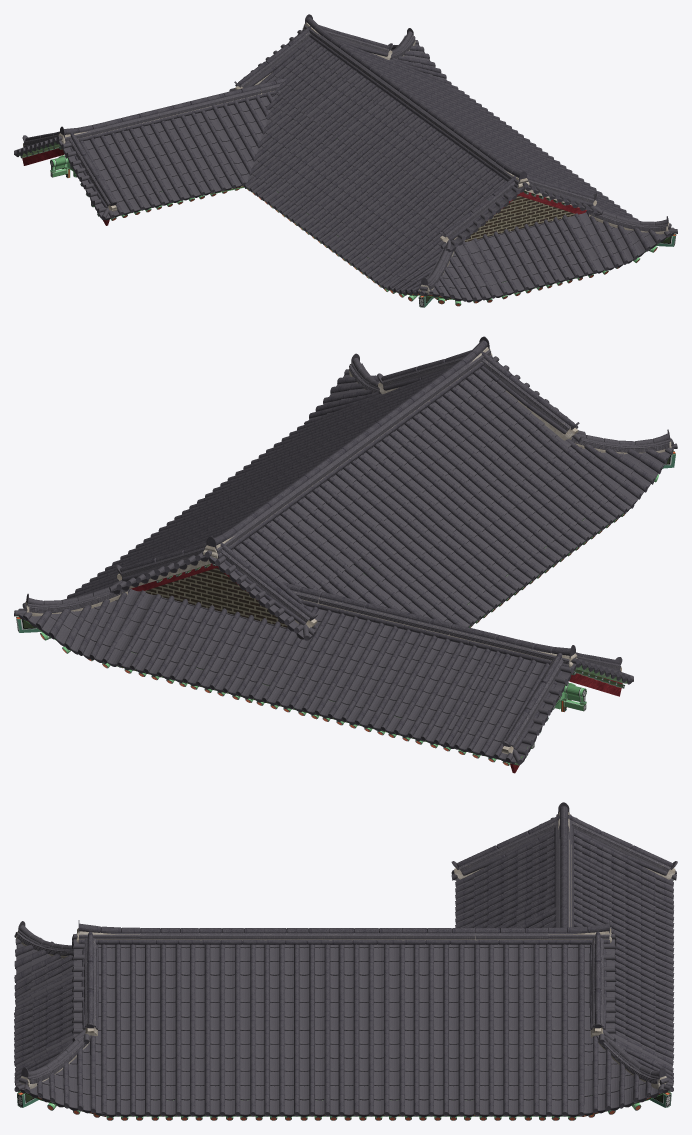
Rendered from SM_R_Bokgunyeong.fbx.
The picture shows the model from 3 angles, top to bottom: view 1: azimuth 30°, elevation 25°; view 2: azimuth 150°, elevation 25°; view 3: azimuth 270°, elevation 25°; orthographic projection. The views are drawn at different scales.
Parts seen in each view (by area): view 1: SM_R_Bokgunyeong; view 2: SM_R_Bokgunyeong; view 3: SM_R_Bokgunyeong.
Boxes of the visible parts, x1,y1,x2,y2 form: SM_R_Bokgunyeong: [14, 14, 677, 307]; SM_R_Bokgunyeong: [14, 336, 677, 773]; SM_R_Bokgunyeong: [14, 802, 677, 1120].
Size of the model in its own units: 1572 by 1821 by 423.
8 materials, 8 textured.
